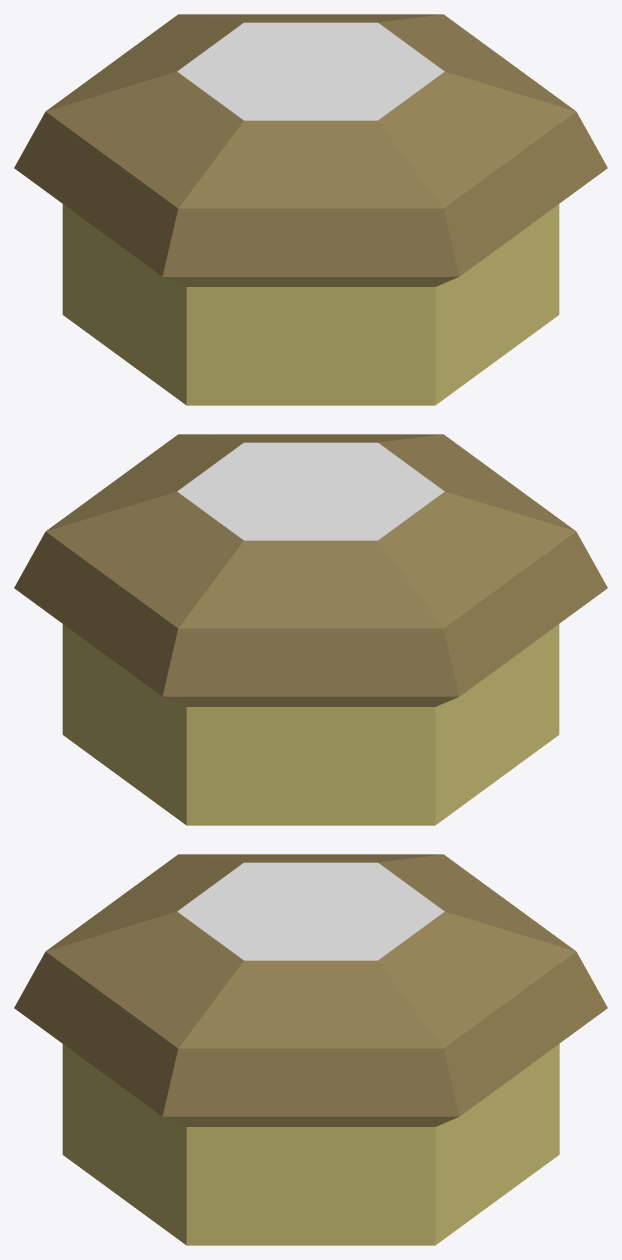
File: pie.fbx
3 renders of one model, top to bottom at view 1: azimuth 30°, elevation 25°; view 2: azimuth 150°, elevation 25°; view 3: azimuth 270°, elevation 25°, orthographic.
Parts seen in each view (by area): view 1: _pie; view 2: _pie; view 3: _pie.
Boxes of the visible parts, box(x1,y1,x2,y2) form: _pie: box(14, 14, 607, 405); _pie: box(14, 434, 607, 825); _pie: box(14, 854, 607, 1245).
Bounding box in the file's own units: 70.6 × 36.83 × 81.52.
